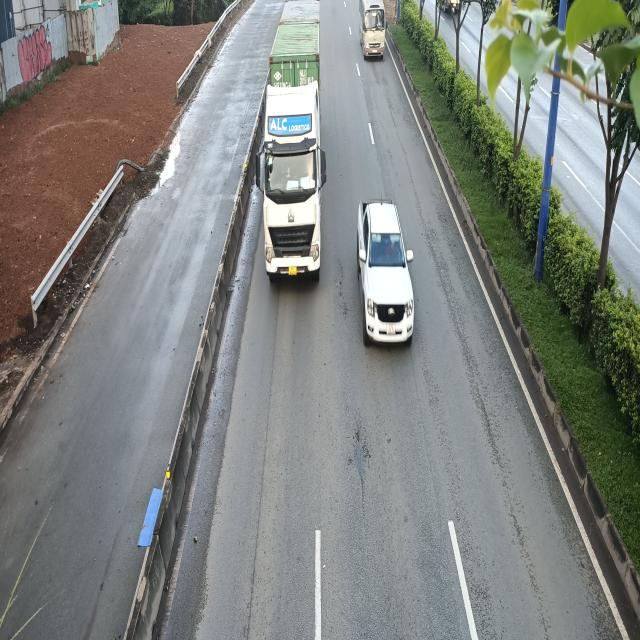car: (354, 200, 413, 348)
coach: (358, 0, 386, 60)
container: (252, 0, 326, 284)
